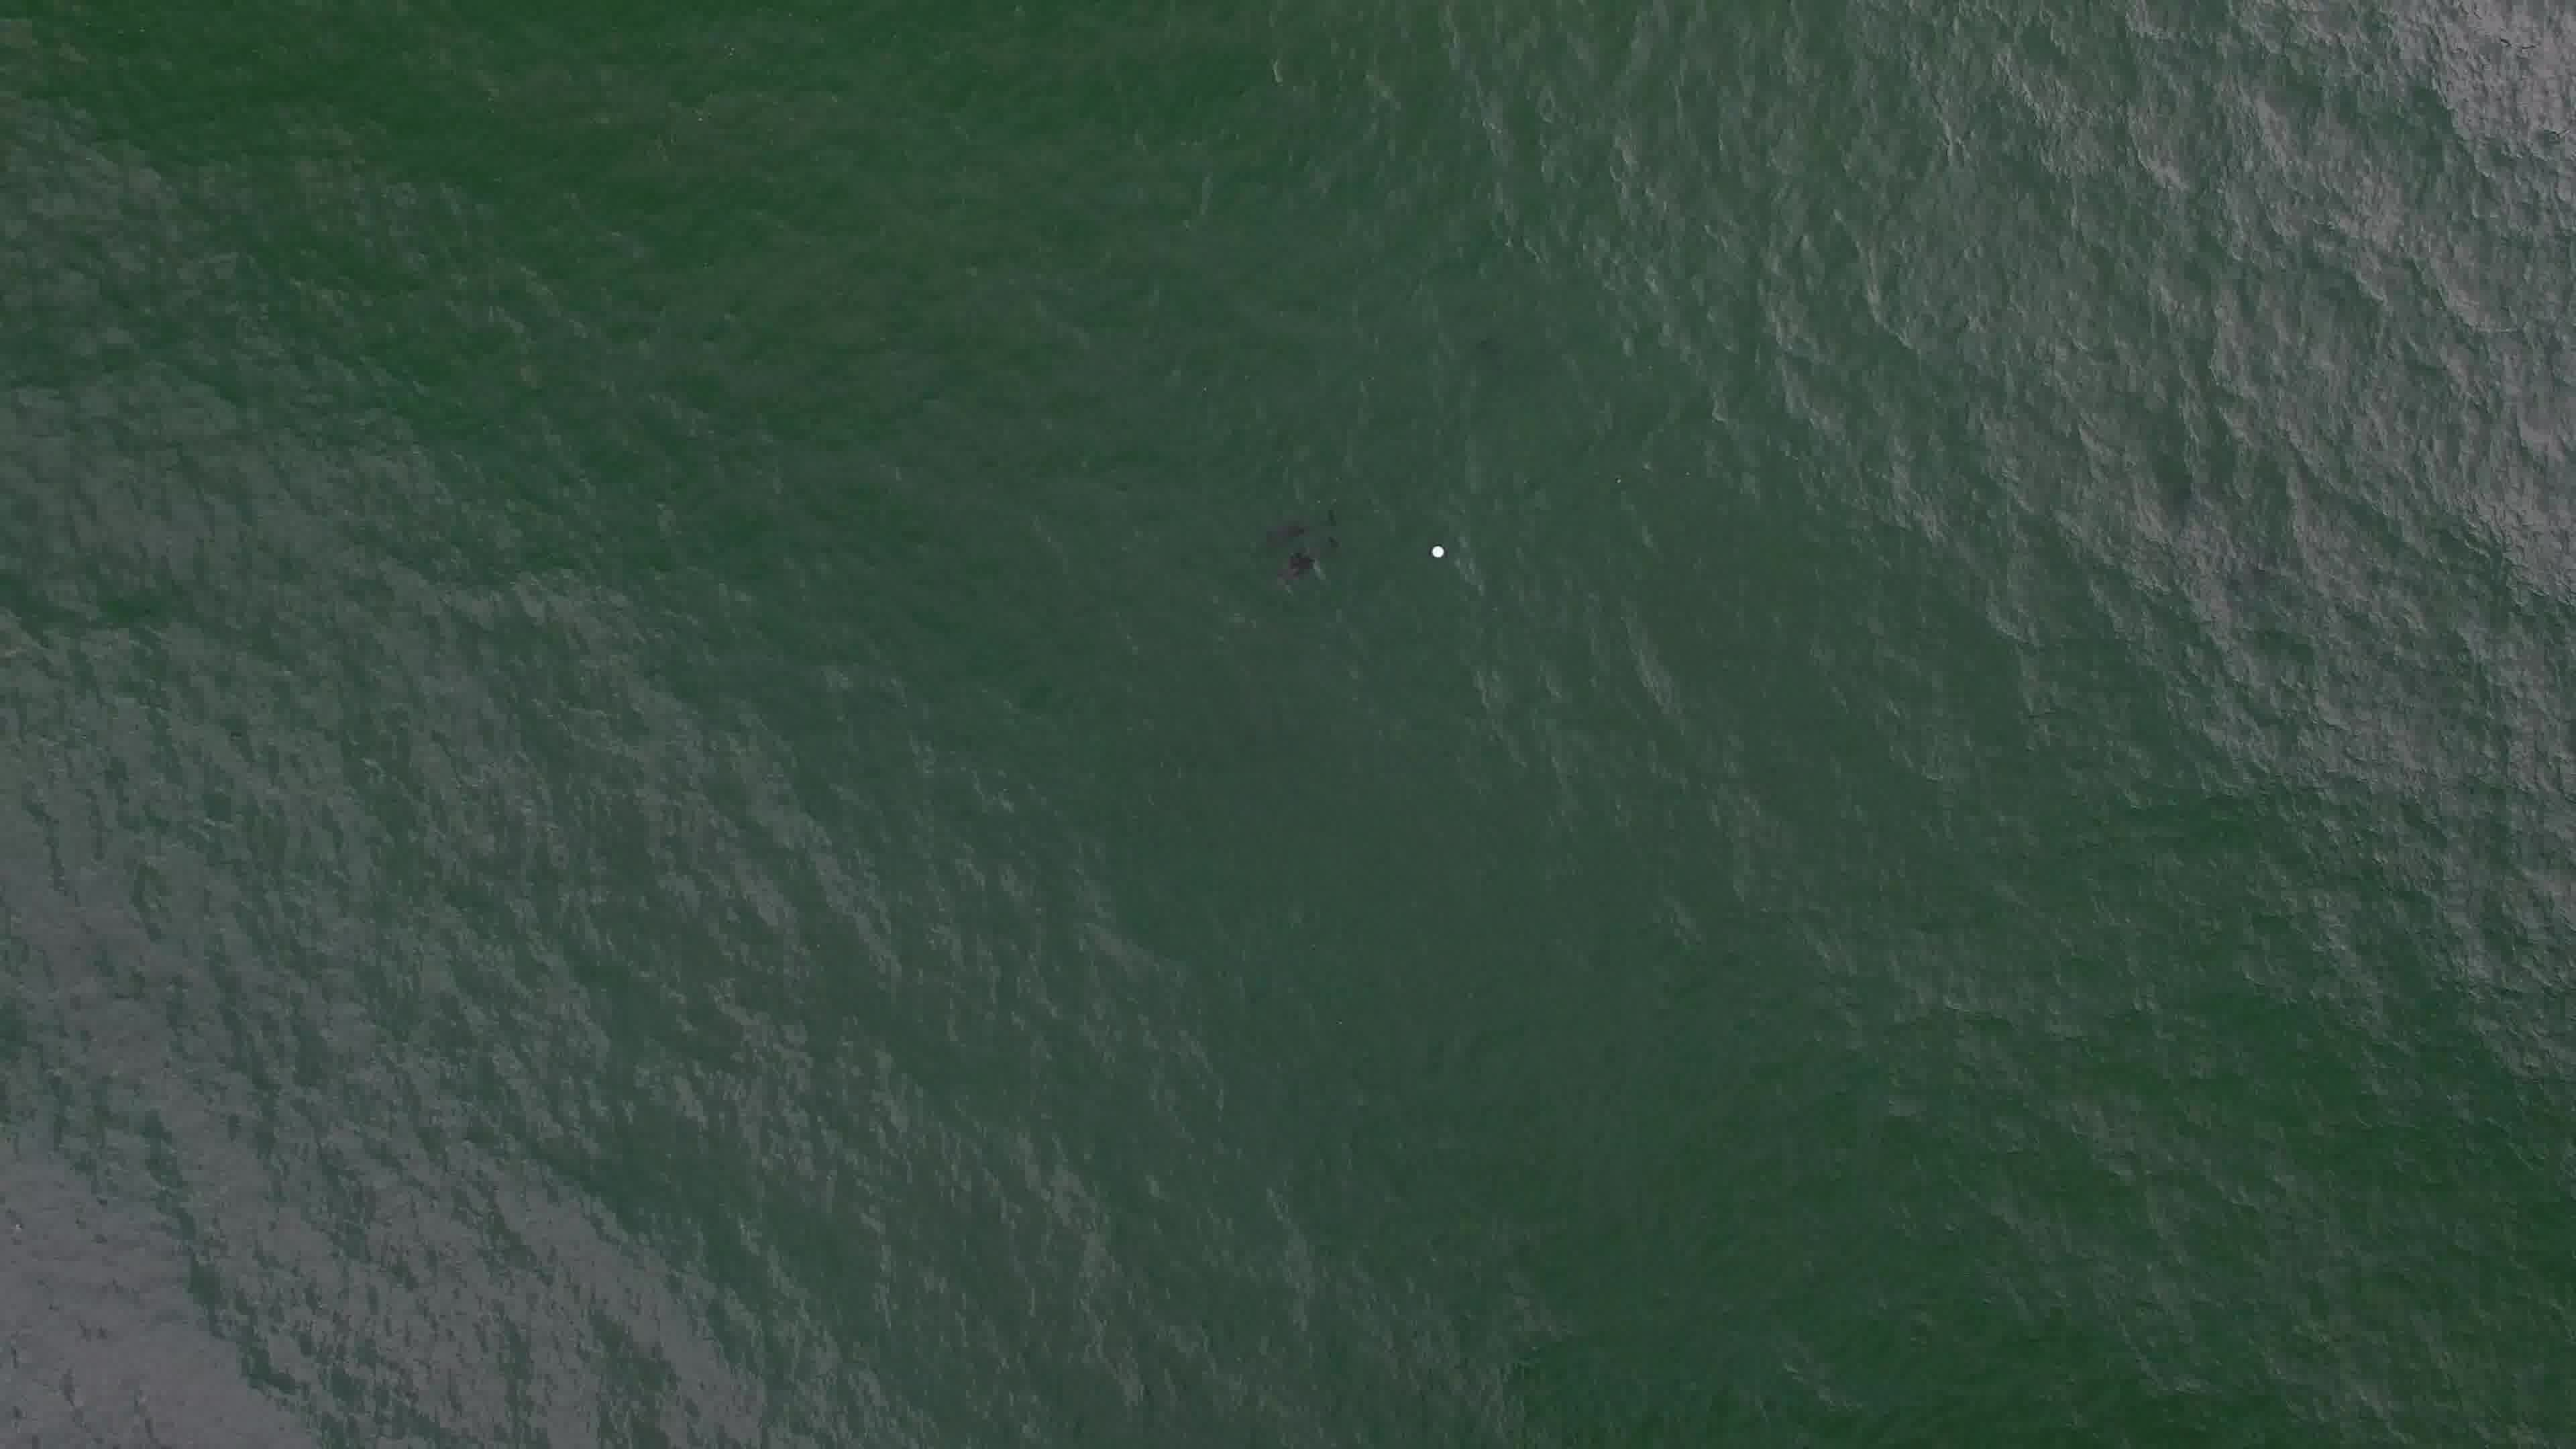dolphin: (1258, 506, 1338, 580)
